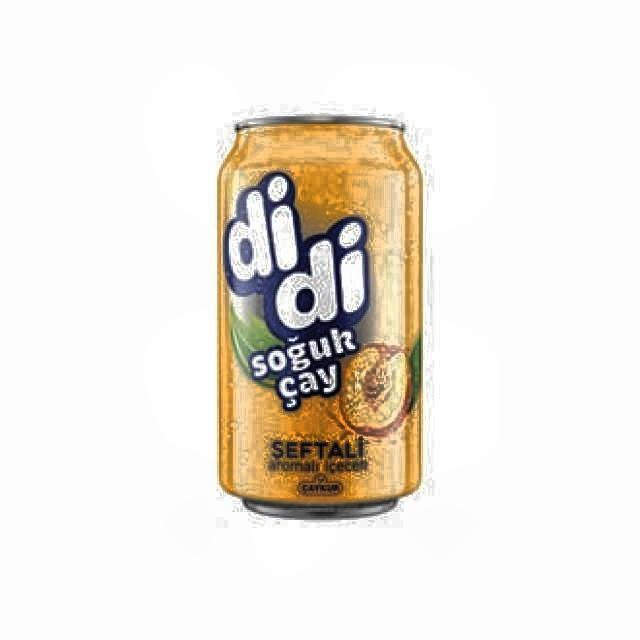metal: (215, 115, 428, 522)
